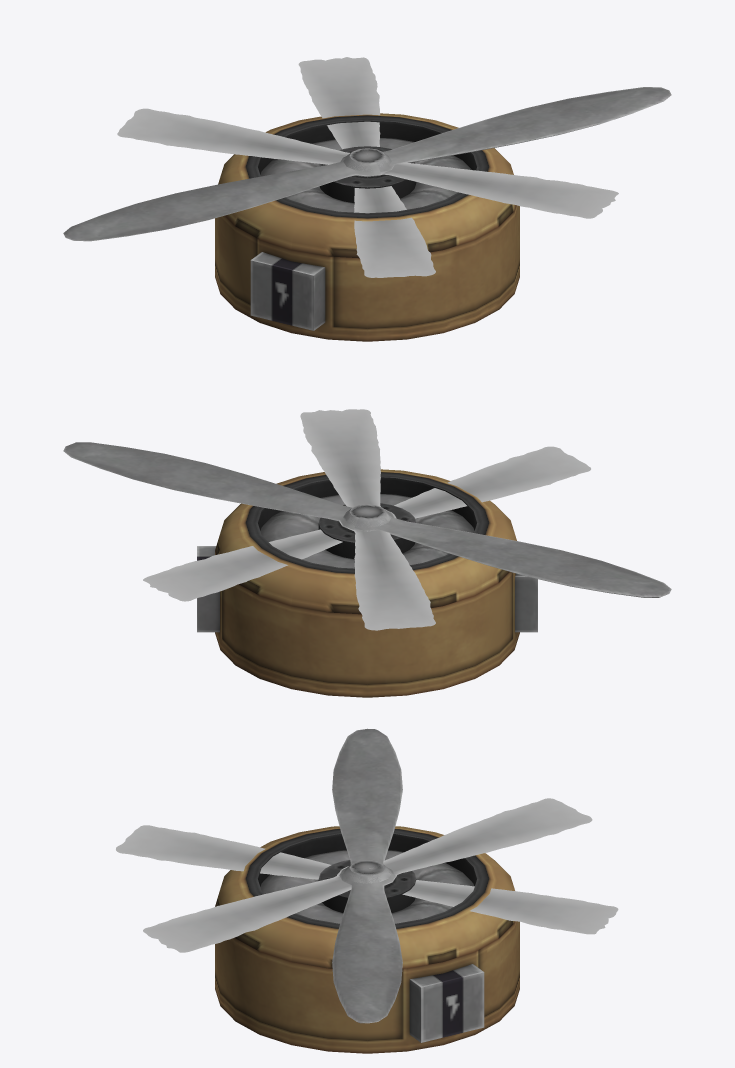
The model's file is wd_electric_prop_engine_s0_1.fbx.
The picture shows the model from 3 angles, top to bottom: view 1: azimuth 30°, elevation 25°; view 2: azimuth 150°, elevation 25°; view 3: azimuth 270°, elevation 25°; orthographic projection.
Parts seen in each view (by area): view 1: main, high, low; view 2: main, high, low; view 3: main, high, low.
Boxes of the visible parts, x1,y1,x2,y2 form: main: [215, 113, 519, 341]; high: [117, 57, 618, 277]; low: [63, 87, 671, 241]; main: [197, 469, 537, 697]; high: [143, 409, 590, 630]; low: [63, 442, 671, 597]; main: [215, 826, 519, 1053]; high: [116, 798, 618, 952]; low: [332, 728, 402, 1023].
Size of the model in its own units: 1.45 by 0.325 by 1.45.
2 materials, 2 textured.
